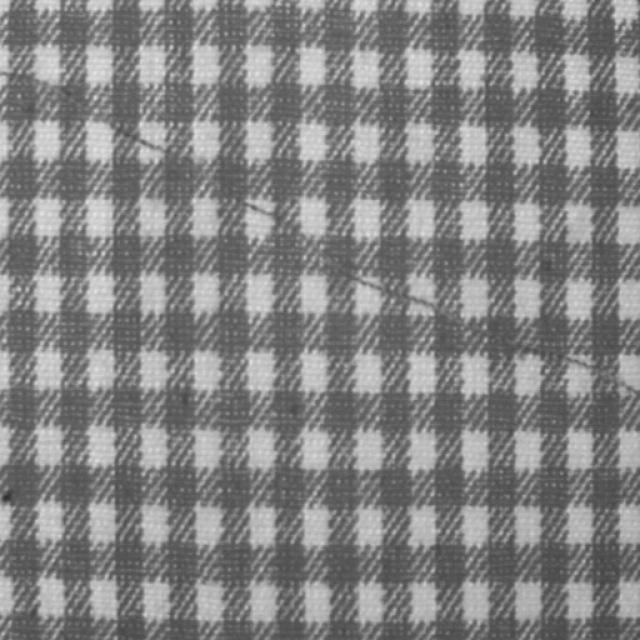Foreign-Body-Defect: (3, 63, 639, 408)
